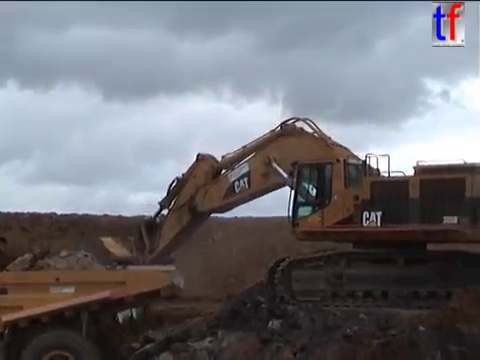excavator: (78, 113, 479, 339)
truck: (1, 259, 186, 360)
